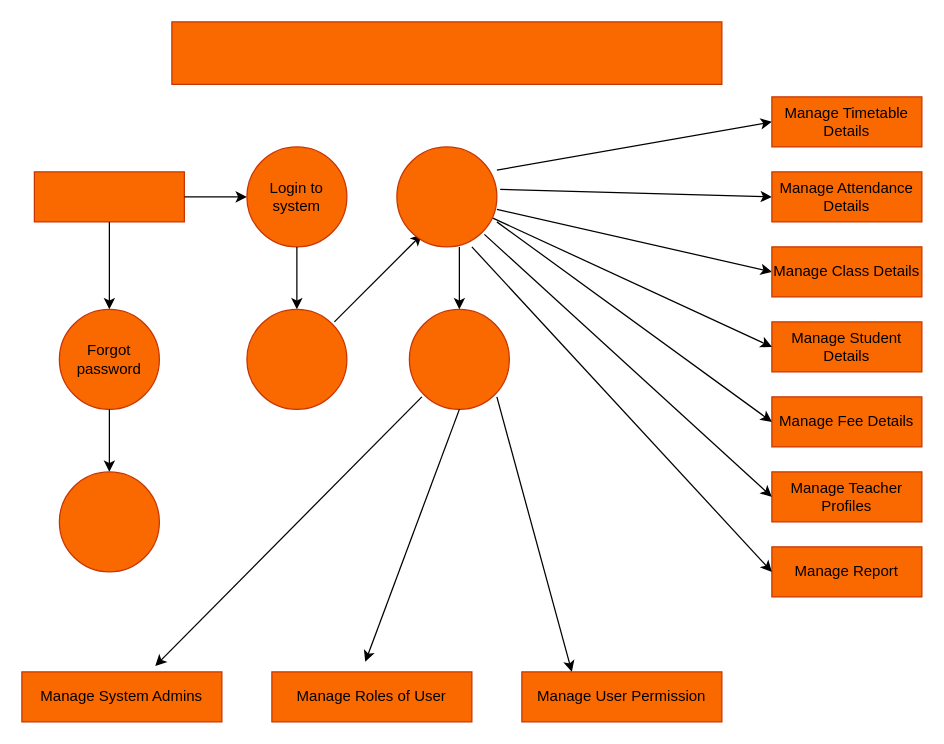
This 944x744 diagram has some shape labels left out. The shapes that lost their labels are listed below. From the top down, each one's centre as x and y in pixels, then its label:
the point at 446,52: Student Information System
the point at 108,196: Admin
the point at 446,196: check Roles of Access
the point at 296,358: check credentials
the point at 458,358: Manage Modules
the point at 108,521: end Email to user
